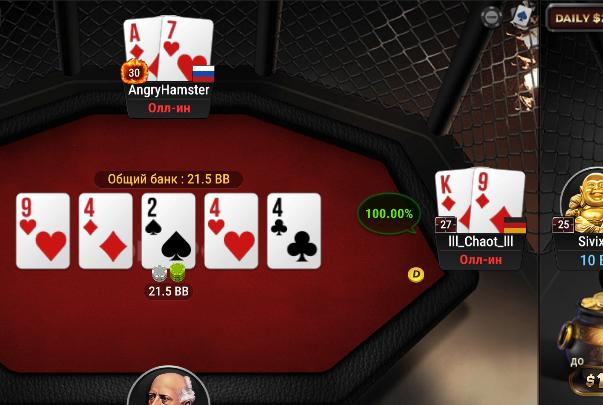2s: (142, 194, 196, 268)
4c: (268, 194, 321, 266)
4d: (79, 194, 131, 268)
4h: (206, 194, 258, 268)
7h: (160, 16, 214, 79)
9d: (472, 165, 526, 233)
9h: (17, 193, 71, 269)
Ad: (122, 18, 160, 84)
Kd: (433, 168, 472, 232)
